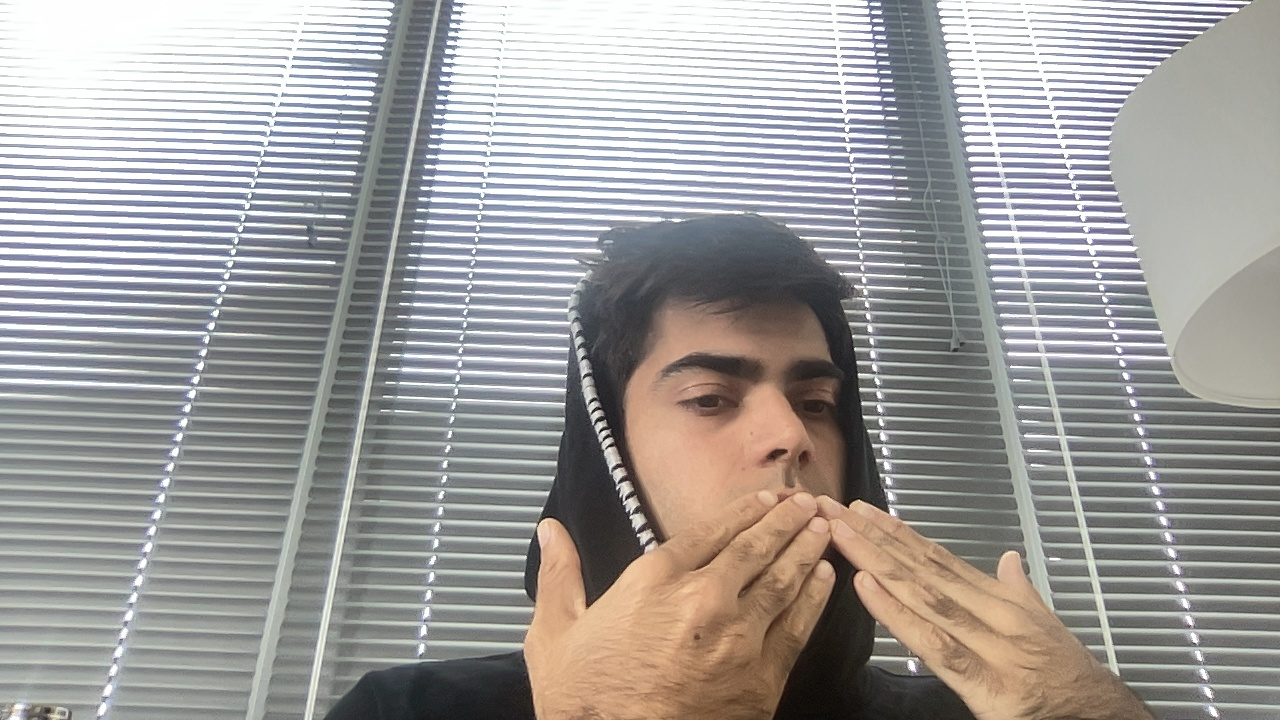thank you: (464, 404, 1175, 720)
